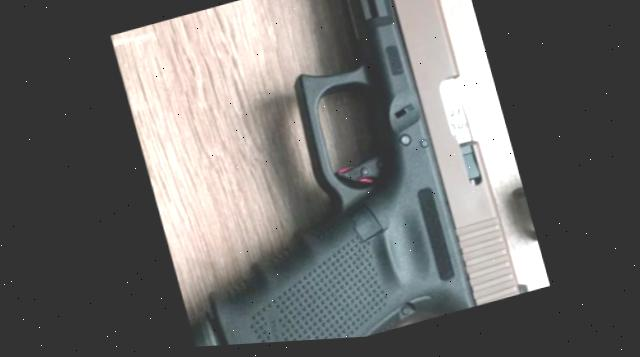pistol: (107, 0, 533, 352)
